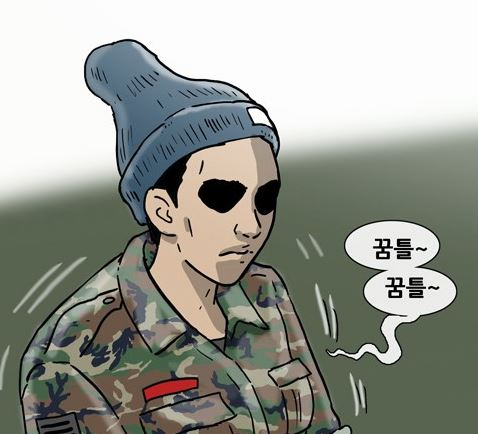hat: (75, 32, 283, 174)
